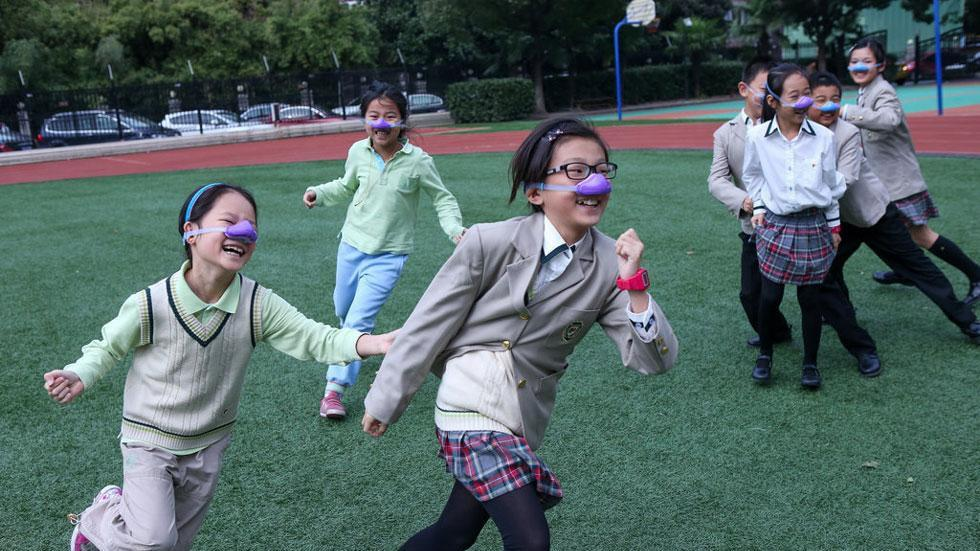WRONG: (551, 156, 621, 226), (195, 202, 260, 267), (779, 86, 816, 123), (748, 75, 780, 116), (366, 109, 402, 145), (808, 88, 841, 125), (849, 54, 878, 82)
